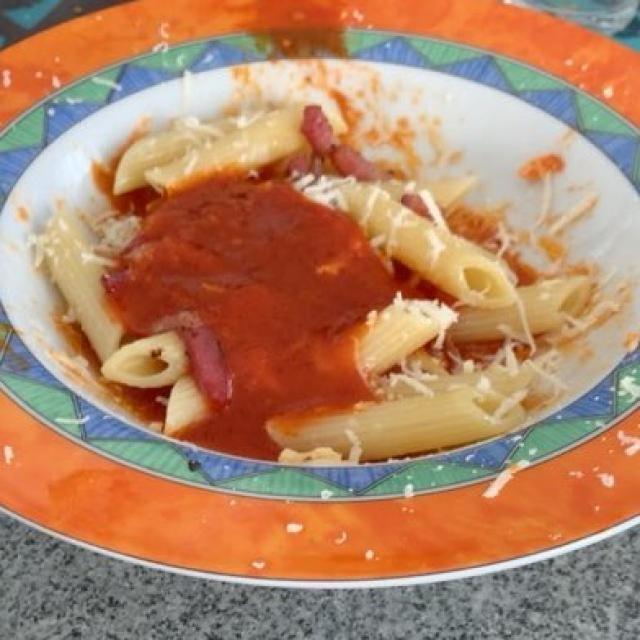bacon: (164, 103, 378, 418)
cheese: (28, 111, 623, 476)
pasta: (52, 103, 591, 466)
tomato-sauce: (94, 158, 399, 464)
